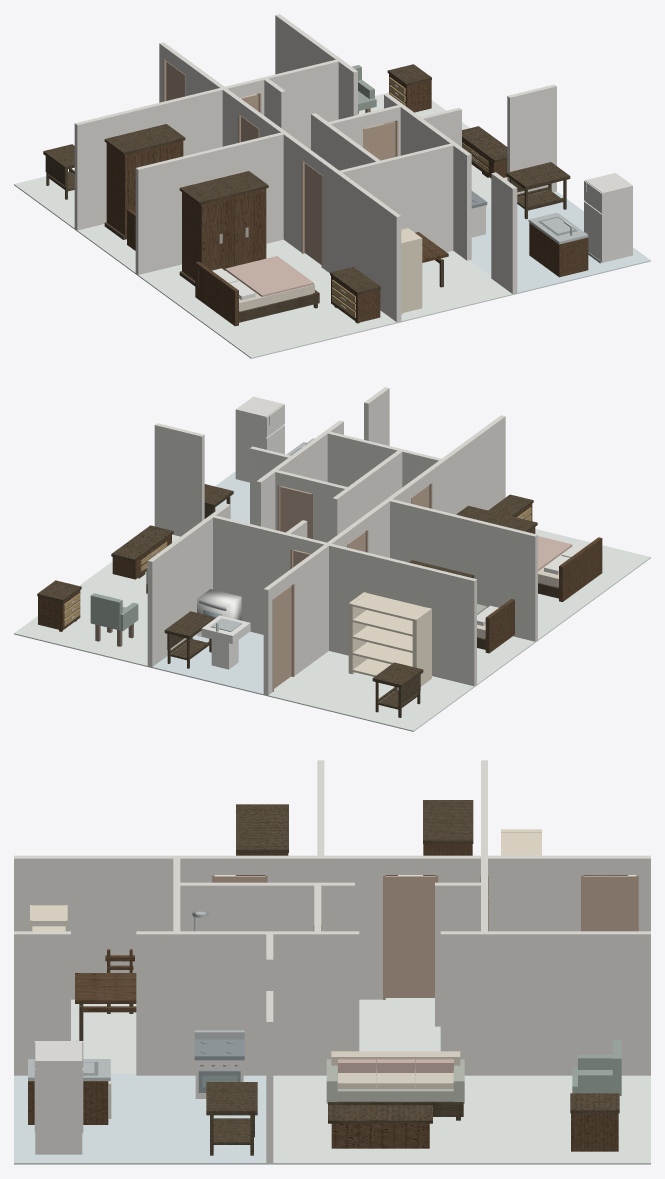
3 renders of one model, top to bottom at view 1: azimuth 30°, elevation 25°; view 2: azimuth 150°, elevation 25°; view 3: azimuth 270°, elevation 25°, orthographic. The views are drawn at different scales.
Visible parts, largest first — view 1: H37_WALL_16, H37_FLOOR_07_QUARTO_CASAL, H37_WALL_17, H37_WALL_12, H37_WALL_05, H37_FLOOR_00_COZINHA, H37_WALL_00, H37_WALL_08, H37_WALL_03, H37_FLOOR_02_COPA_/_REFEICOES, H37_WALL_04, H37_WALL_02 (+37 smaller); view 2: H37_WALL_17, H37_WALL_16, H37_FLOOR_09_DEPOSITO, H37_WALL_04, H37_WALL_08, H37_FLOOR_01_SALA_/_ENTRADA, H37_WALL_12, H37_WALL_00, H37_WALL_14, H37_FLOOR_07_QUARTO_CASAL, H37_WALL_05, H37_FLOOR_05_LAVANDERIA (+34 smaller); view 3: H37_WALL_04, H37_WALL_03, H37_FLOOR_01_SALA_/_ENTRADA, H37_WALL_12, H37_FLOOR_00_COZINHA, H37_WALL_14, H37_WALL_10, H37_WALL_02, H37_WALL_13, H37_DOOR_03_LEAF, H37_FURN_00_fridge__05__gabinete, H37_FLOOR_02_COPA_/_REFEICOES (+35 smaller).
Boxes of the visible parts, x1,y1,x2,y2 form: H37_WALL_16: [135, 132, 284, 274]; H37_FLOOR_07_QUARTO_CASAL: [137, 239, 398, 358]; H37_WALL_17: [74, 88, 224, 230]; H37_WALL_12: [322, 162, 401, 322]; H37_WALL_05: [337, 143, 453, 252]; H37_FLOOR_00_COZINHA: [469, 191, 650, 294]; H37_WALL_00: [507, 84, 556, 197]; H37_WALL_08: [258, 59, 338, 149]; H37_WALL_03: [384, 93, 471, 260]; H37_FLOOR_02_COPA_/_REFEICOES: [399, 251, 514, 322]; H37_WALL_04: [275, 14, 357, 119]; H37_WALL_02: [491, 172, 517, 293]; H37_WALL_17: [327, 544, 476, 686]; H37_WALL_16: [390, 498, 537, 641]; H37_FLOOR_09_DEPOSITO: [266, 651, 475, 731]; H37_WALL_04: [147, 503, 230, 666]; H37_WALL_08: [211, 515, 293, 634]; H37_FLOOR_01_SALA_/_ENTRADA: [14, 534, 180, 667]; H37_WALL_12: [427, 415, 505, 514]; H37_WALL_00: [154, 423, 204, 536]; H37_WALL_14: [289, 530, 347, 675]; H37_FLOOR_07_QUARTO_CASAL: [535, 529, 650, 641]; H37_WALL_05: [326, 431, 443, 487]; H37_FLOOR_05_LAVANDERIA: [150, 631, 265, 695]; H37_WALL_04: [440, 931, 650, 1075]; H37_WALL_03: [136, 931, 359, 1075]; H37_FLOOR_01_SALA_/_ENTRADA: [269, 1075, 650, 1164]; H37_WALL_12: [14, 855, 213, 999]; H37_FLOOR_00_COZINHA: [14, 1074, 269, 1164]; H37_WALL_14: [437, 855, 582, 931]; H37_WALL_10: [180, 882, 354, 931]; H37_WALL_02: [14, 931, 70, 1075]; H37_WALL_13: [266, 855, 384, 999]; H37_DOOR_03_LEAF: [385, 876, 435, 997]; H37_FURN_00_fridge__05__gabinete: [35, 1041, 82, 1154]; H37_FLOOR_02_COPA_/_REFEICOES: [71, 999, 136, 1073].
Bounding box in the file's own units: 9.66 × 2.46 × 9.94.
22 materials, 3 textured.
